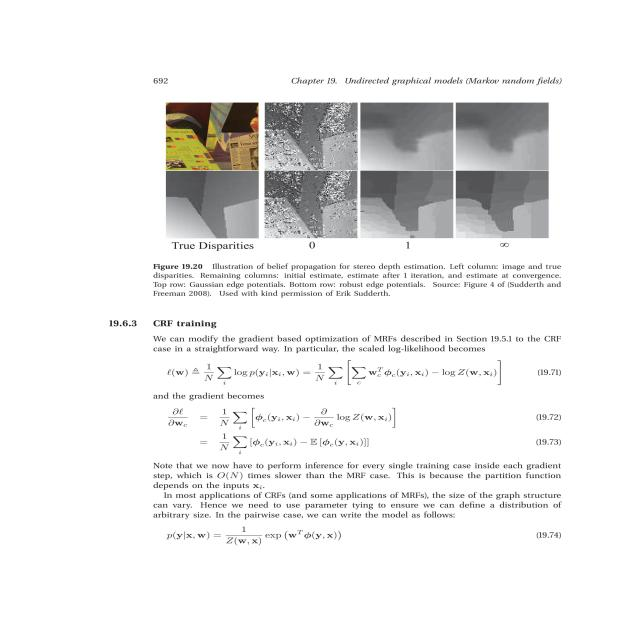diagram: (83, 95, 640, 323)
